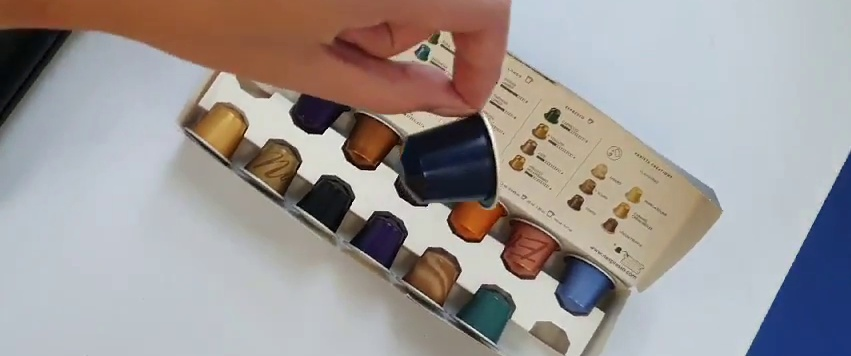capsule_1: (402, 111, 499, 213)
